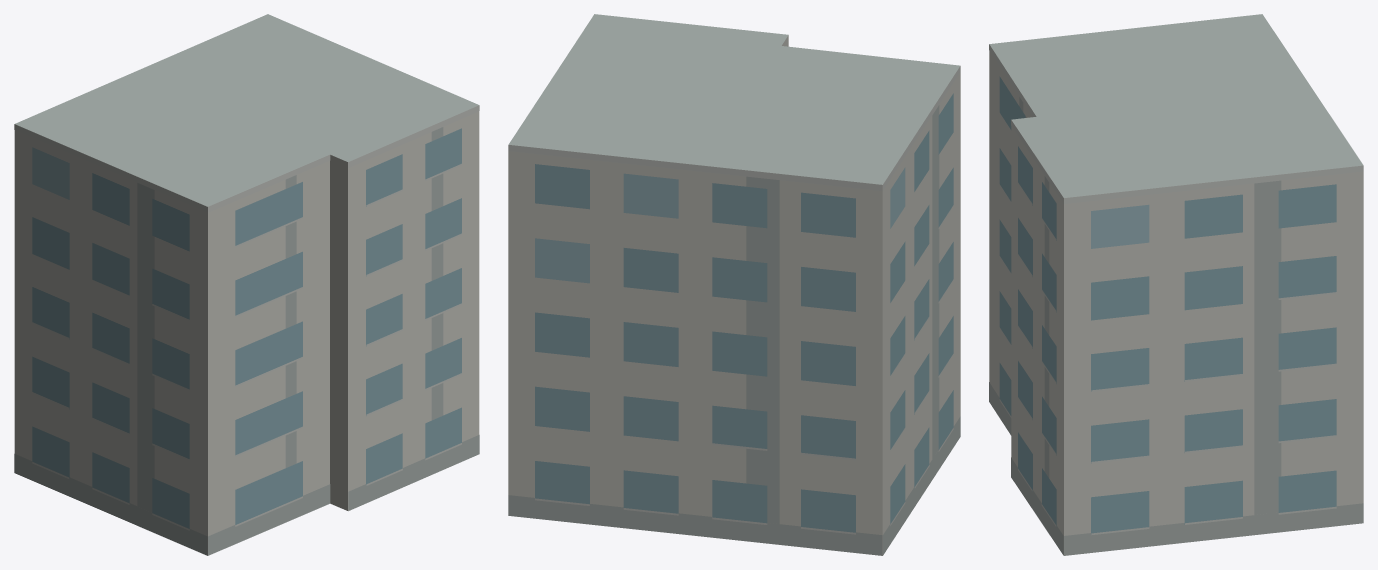
File: survey-upis-32703255.glb
3 views of the same model, side by side, from view 1: azimuth 30°, elevation 25°; view 2: azimuth 150°, elevation 25°; view 3: azimuth 270°, elevation 25° (orthographic). The views are drawn at different scales.
Parts seen in each view (by area): view 1: survey-upis-32703255.tmp; view 2: survey-upis-32703255.tmp; view 3: survey-upis-32703255.tmp.
Part boxes in pixels (x1,y1,x2,y2): survey-upis-32703255.tmp: (14,14,479,555); survey-upis-32703255.tmp: (508,14,960,555); survey-upis-32703255.tmp: (989,14,1363,555).
Size of the model in its own units: 15.8 by 14.3 by 13.58.
